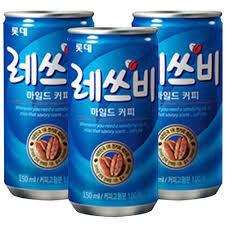letsbe: (70, 24, 158, 217), (4, 12, 90, 200), (136, 11, 221, 198)
